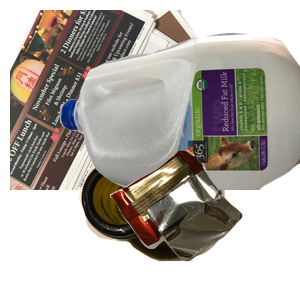glass: (77, 147, 295, 300)
paper: (10, 10, 250, 190)
plastic: (60, 30, 300, 210)
trash: (107, 148, 300, 300)
